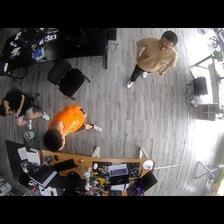normal: (124, 31, 177, 91), (45, 103, 106, 149)
